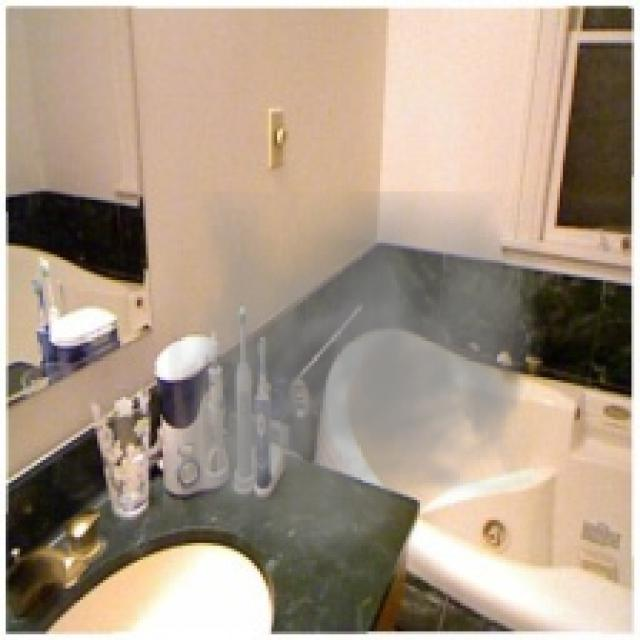smoke: (163, 192, 546, 577)
